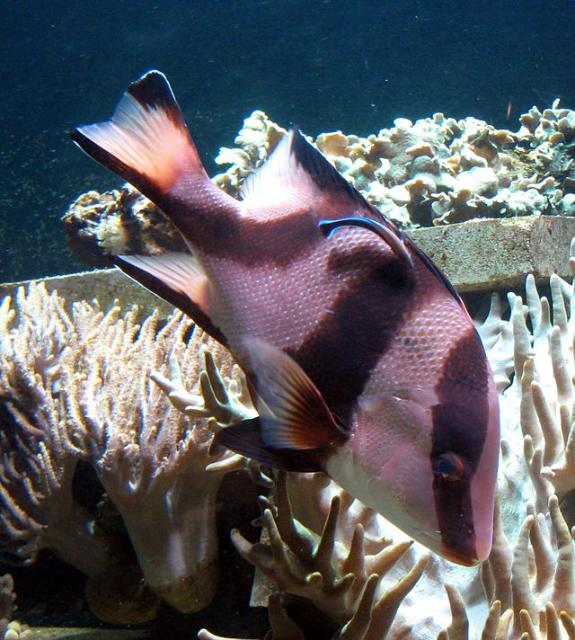Mulut: (399, 514, 517, 600)
Sirip Anal: (100, 237, 231, 347)
Sirip Dada: (231, 328, 359, 464)
Sirip Ekor: (57, 56, 215, 212)
Sirip Perut: (206, 404, 322, 490)
Sirip Punggung: (234, 110, 476, 320)
